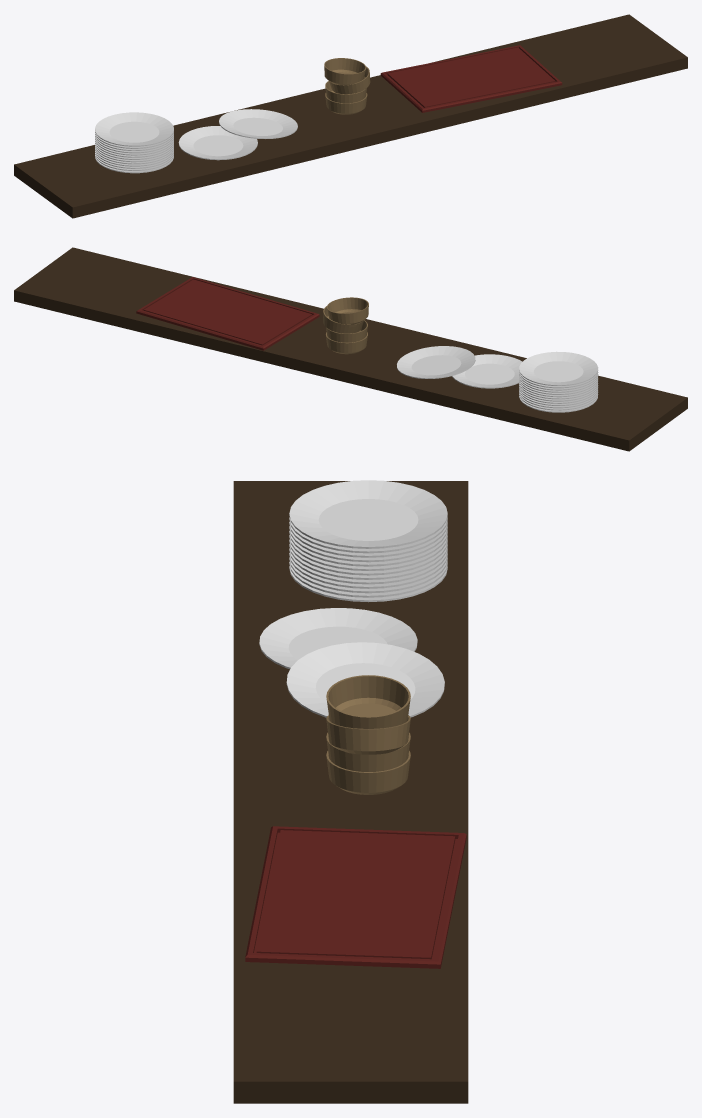
Rendered from Kitchen Shelf.fbx.
3 renders of one model, top to bottom at view 1: azimuth 30°, elevation 25°; view 2: azimuth 150°, elevation 25°; view 3: azimuth 270°, elevation 25°, orthographic. The views are drawn at different scales.
Parts seen in each view (by area): view 1: Cylinder.050; view 2: Cylinder.050; view 3: Cylinder.050.
Boxes of the visible parts, x1,y1,x2,y2 form: Cylinder.050: (14,14,687,218); Cylinder.050: (14,247,687,451); Cylinder.050: (233,480,468,1103).
Size of the model in its own units: 290 by 24.65 by 48.
